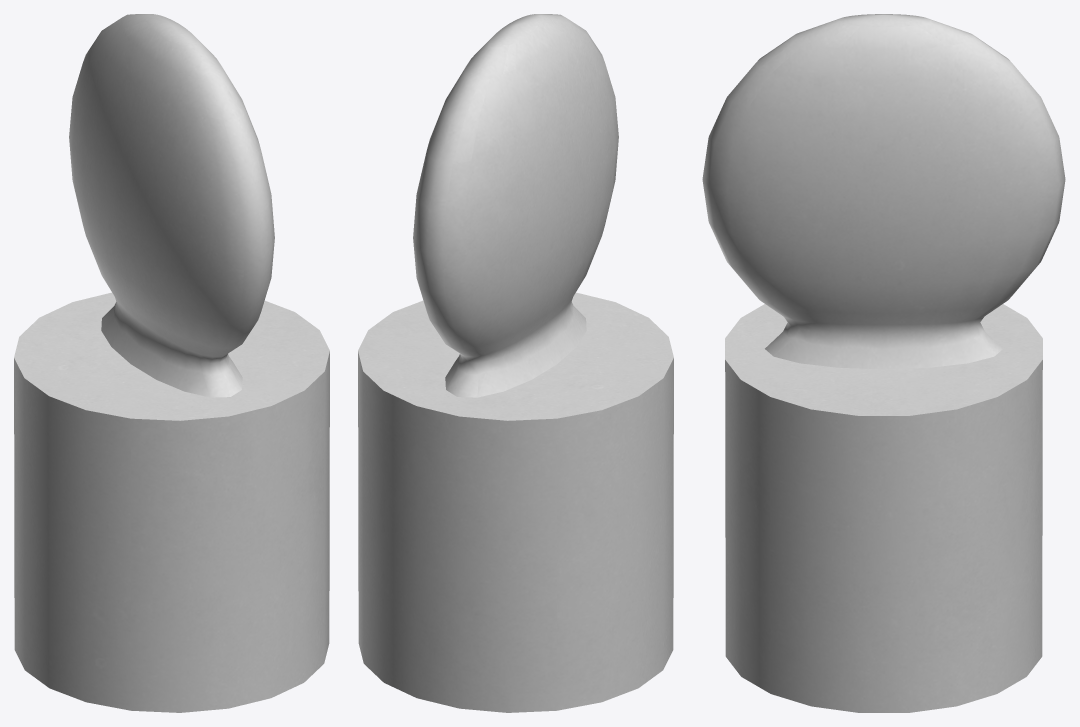
Rendered from SM_锥形瓶塞.fbx.
The picture shows the model from 3 angles, left to right: view 1: azimuth 30°, elevation 25°; view 2: azimuth 150°, elevation 25°; view 3: azimuth 270°, elevation 25°; orthographic projection.
Visible parts, largest first — view 1: SM_锥形瓶塞; view 2: SM_锥形瓶塞; view 3: SM_锥形瓶塞.
Part boxes in pixels (box(x1,y1,x2,y2)): SM_锥形瓶塞: box(14, 14, 329, 712); SM_锥形瓶塞: box(358, 14, 673, 712); SM_锥形瓶塞: box(702, 14, 1065, 712).
Size of the model in its own units: 36.97 by 81.03 by 42.25.
